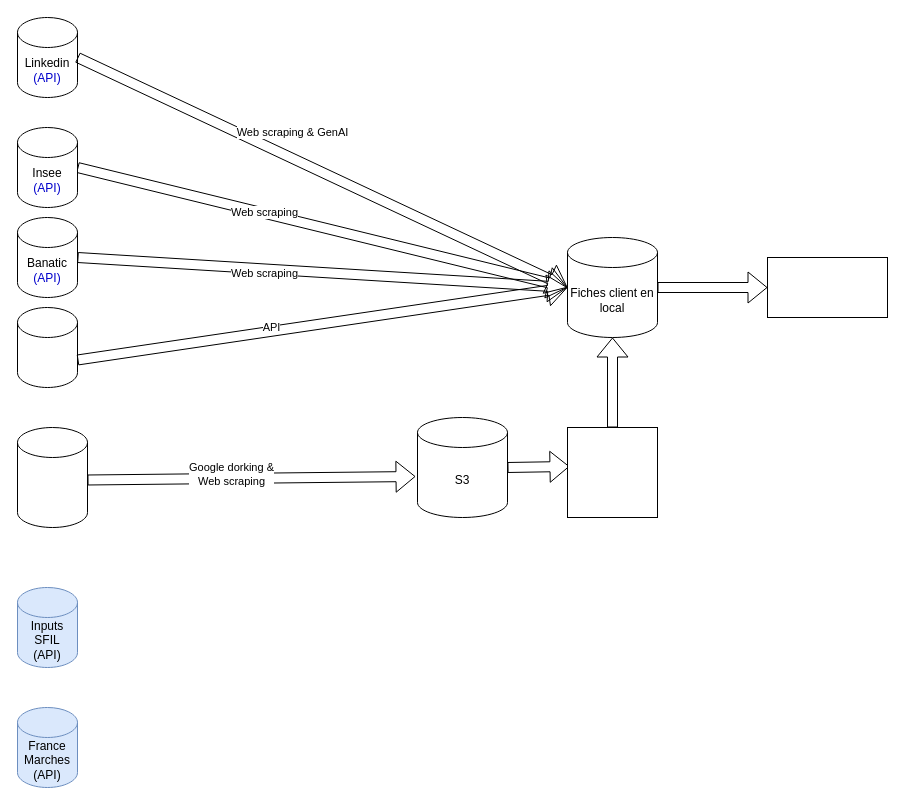
Image size: 905x805. Some labels were removed from this diagram. The box of each missing label's shape, as (x1, y1, x2, y2) in pixels:
Agents et RAG: (566, 426, 658, 518)
Frontend (streamlit): (766, 256, 888, 318)
OFGL: (16, 306, 78, 388)
Site des mairies (DOB et ROB): (16, 426, 88, 528)
